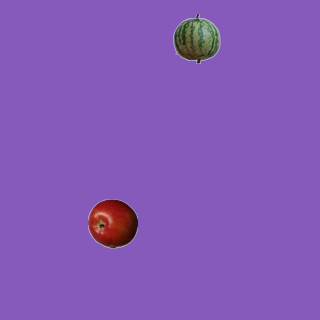Apple Braeburn: (87, 198, 137, 248)
Watermelon: (171, 13, 221, 63)
